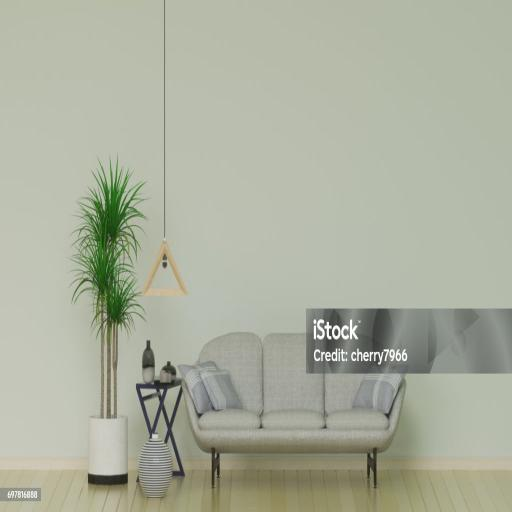back_cushion: (200, 333, 406, 414)
base: (191, 421, 390, 453)
left_arm: (386, 381, 406, 448)
legs: (366, 447, 377, 488), (212, 447, 220, 487)
right_arm: (182, 379, 202, 430), (194, 376, 210, 402)
seat_cushion: (199, 409, 325, 429), (328, 411, 388, 430)
stallion-sofa2: (182, 309, 406, 487)
